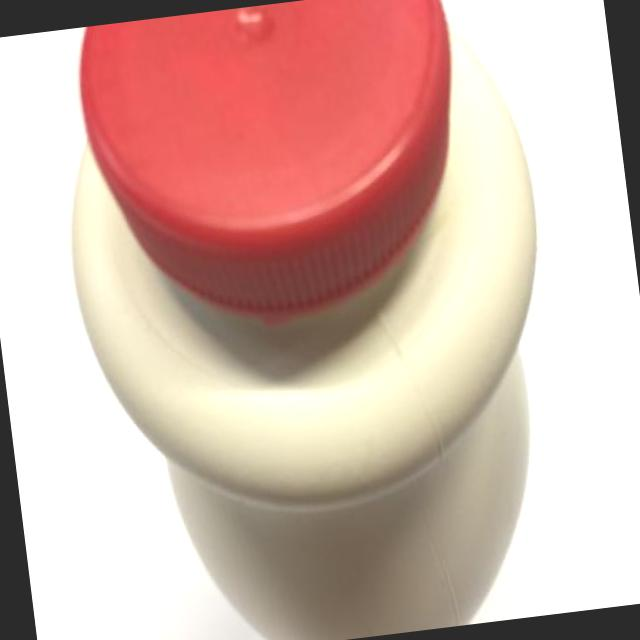Trash: (42, 0, 586, 640)
